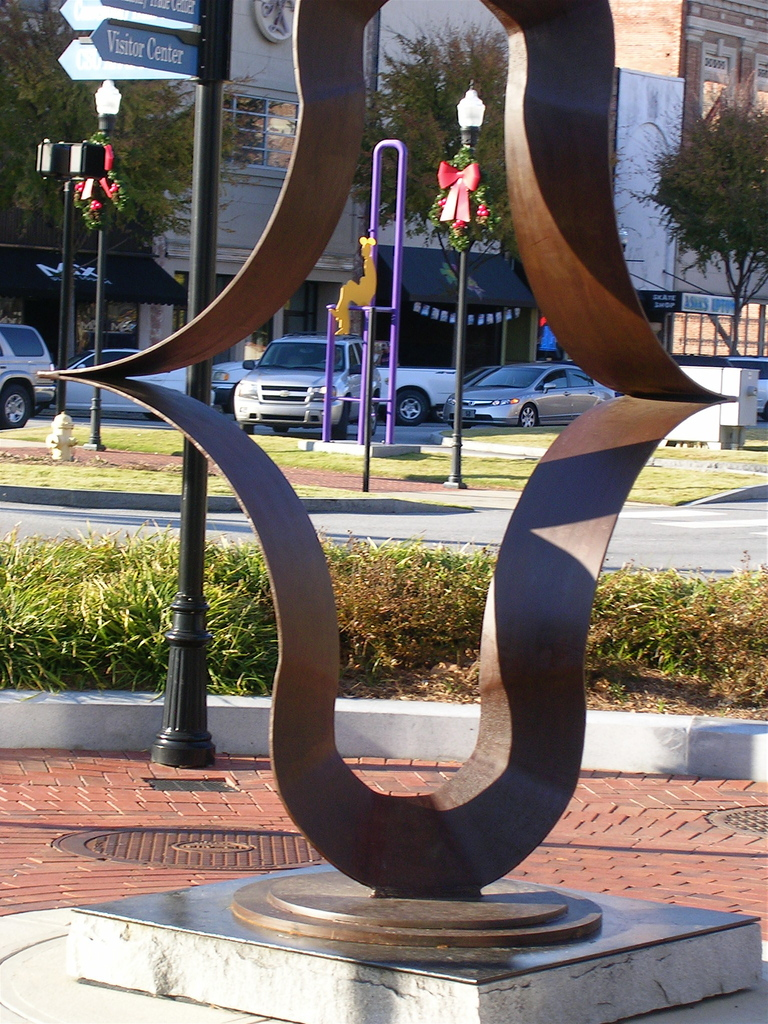cars: (229, 328, 385, 435), (441, 361, 613, 438), (58, 345, 187, 412), (0, 311, 61, 425)
